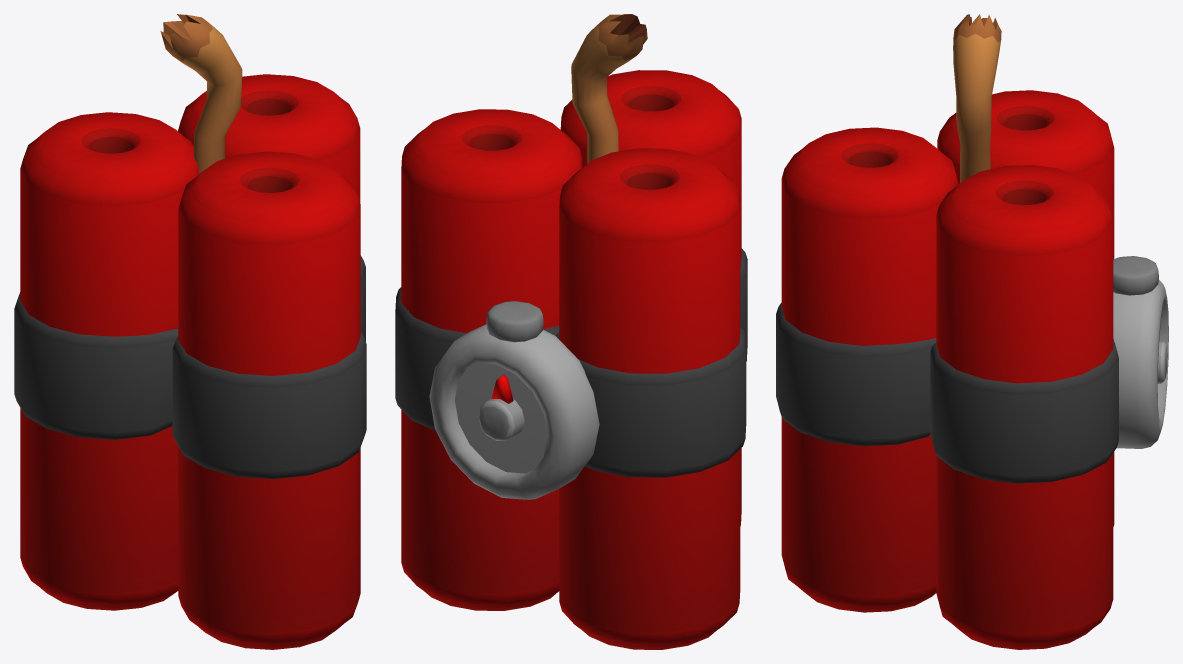
File: Dynamite_V1_0.fbx
3 renders of one model, left to right at view 1: azimuth 30°, elevation 25°; view 2: azimuth 150°, elevation 25°; view 3: azimuth 270°, elevation 25°, orthographic. The views are drawn at different scales.
Visible parts, largest first — view 1: Dynamite_V1_0; view 2: Dynamite_V1_0; view 3: Dynamite_V1_0.
Part boxes in pixels (x1,y1,x2,y2): Dynamite_V1_0: (14, 14, 366, 649); Dynamite_V1_0: (395, 14, 747, 649); Dynamite_V1_0: (776, 14, 1168, 649).
Bounding box in the file's own units: 0.3074 × 0.5163 × 0.3307.
